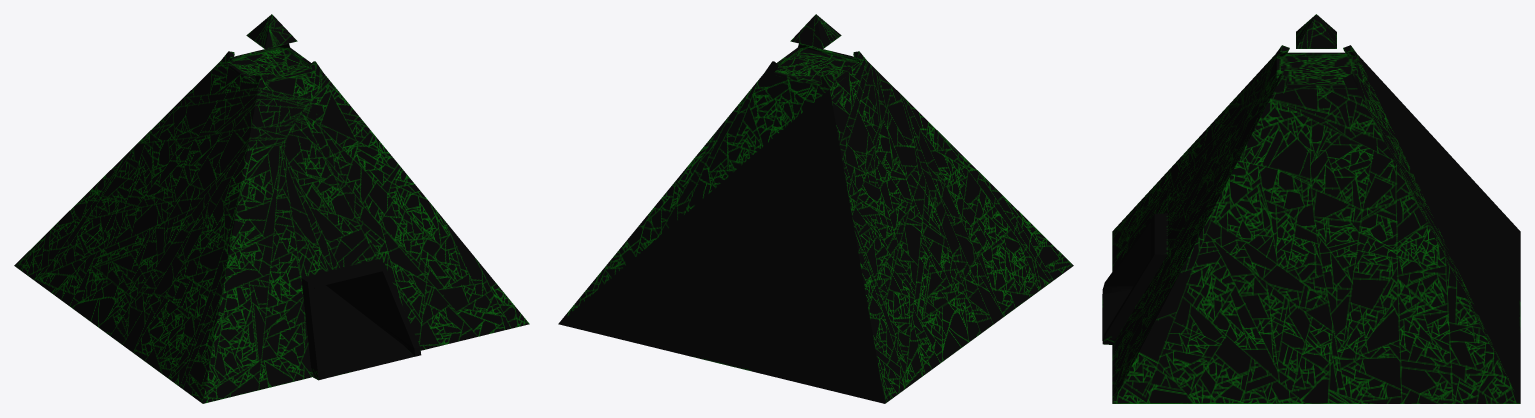
The model's file is piramideboss.dae.
3 views of the same model, side by side, from view 1: azimuth 30°, elevation 25°; view 2: azimuth 150°, elevation 25°; view 3: azimuth 270°, elevation 25° (orthographic). The views are drawn at different scales.
Visible parts, largest first — view 1: Plane, Cube_Cube_001; view 2: Plane, Cube_Cube_001; view 3: Plane, Cube_Cube_001.
Part boxes in pixels (box(x1,y1,x2,y2)): Plane: box(14, 43, 529, 403); Cube_Cube_001: box(246, 14, 297, 49); Plane: box(558, 43, 1073, 403); Cube_Cube_001: box(790, 14, 841, 49); Plane: box(1102, 45, 1520, 403); Cube_Cube_001: box(1296, 14, 1336, 48).
Bounding box in the file's own units: 150 × 154 × 123.
2 materials, 2 textured.
